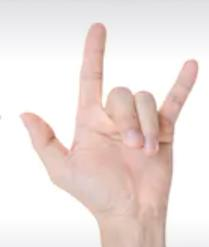back: (19, 23, 206, 220)
